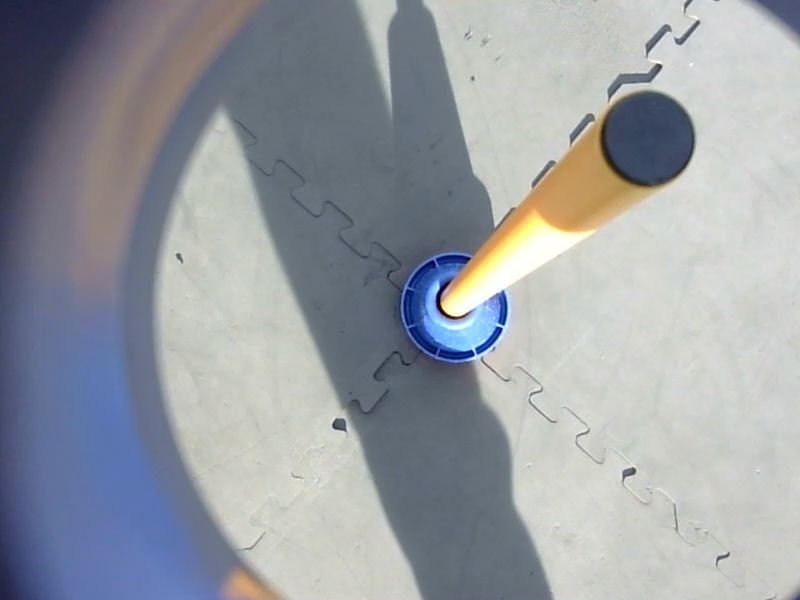tip: (593, 87, 702, 194)
